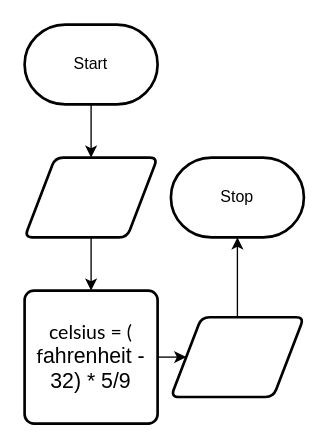
Image size: 327x447. Some labels were removed from this diagram. Each missing label, with the centre of its shape:
enter celsius: (x=237, y=356)
enter fahrenheit: (x=90, y=197)
